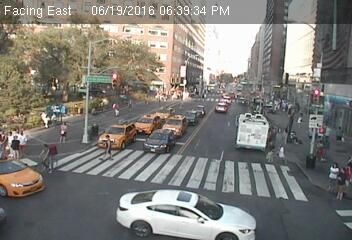neg: (216, 104, 239, 135), (191, 106, 208, 128), (211, 156, 227, 178), (168, 110, 182, 129)
pos: (97, 134, 119, 162), (55, 120, 75, 146), (110, 100, 124, 118)
